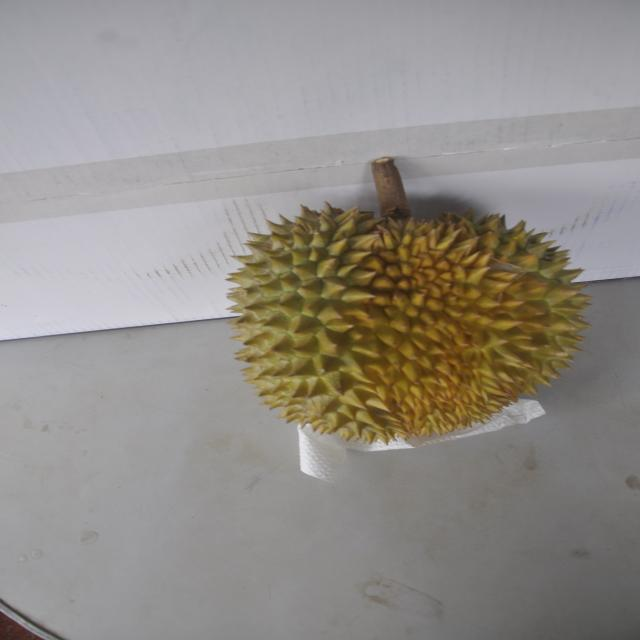mature: (220, 191, 588, 445)
